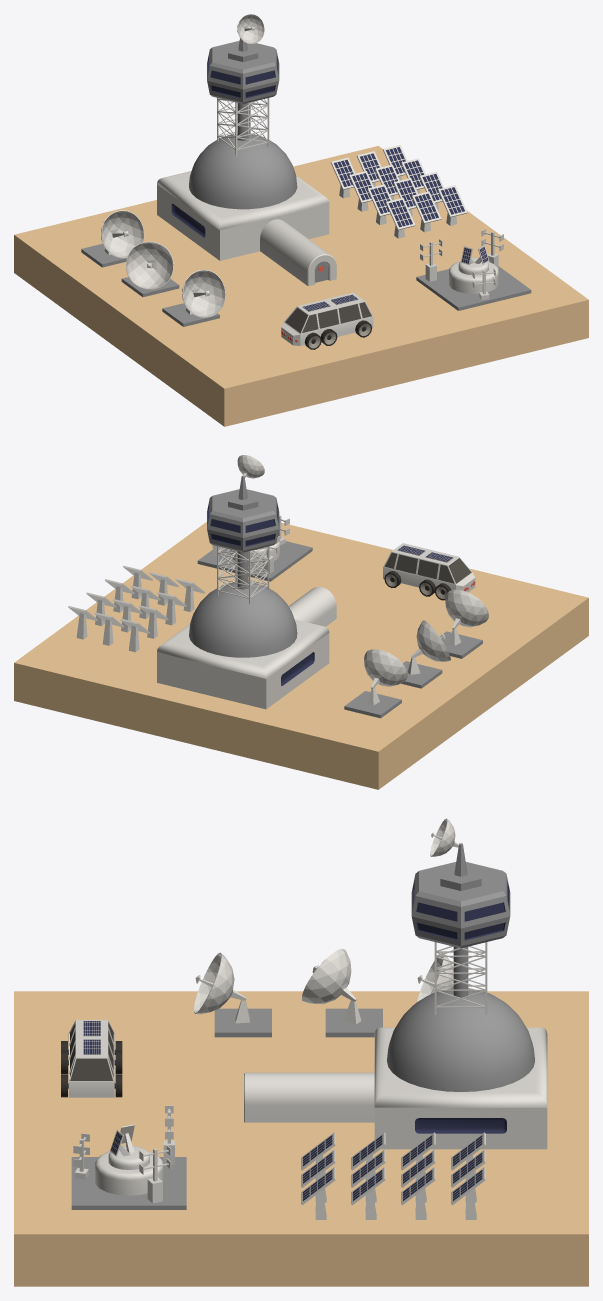
File: 00 Space_9.FBX
The picture shows the model from 3 angles, top to bottom: view 1: azimuth 30°, elevation 25°; view 2: azimuth 150°, elevation 25°; view 3: azimuth 270°, elevation 25°; orthographic projection. The views are drawn at different scales.
Visible parts, largest first — view 1: Box001, Cylinder036, Cylinder004, Box042, GeoSphere003, GeoSphere004, GeoSphere002, Box044, Box043, Box028, Box053, Box047 (+1 smaller); view 2: Box001, Cylinder036, Box042, GeoSphere002, Cylinder004, GeoSphere004, GeoSphere003; view 3: Box001, Cylinder036, Cylinder004, Box042, GeoSphere003, GeoSphere004, GeoSphere002, Box028, Box045, Box048, Box051.
Part boxes in pixels (x1,y1,x2,y2): Box001: (14,146,588,426); Cylinder036: (157,14,336,285); Cylinder004: (416,228,531,310); Box042: (281,292,373,349); GeoSphere003: (121,241,179,297); GeoSphere004: (162,269,225,326); GeoSphere002: (81,210,144,267); Box044: (385,198,415,238); Box043: (411,191,441,232); Box028: (438,185,467,225); Box053: (330,157,355,198); Box047: (367,184,391,224); Box001: (14,522,588,789); Cylinder036: (157,455,336,709); Box042: (383,543,475,600); GeoSphere002: (344,649,407,718); Cylinder004: (197,515,312,581); GeoSphere004: (439,589,488,658); GeoSphere003: (401,620,450,688); Box001: (14,991,588,1286); Cylinder036: (244,818,547,1149); Cylinder004: (71,1105,186,1209); Box042: (61,1020,122,1097); GeoSphere003: (302,948,382,1037); GeoSphere004: (194,952,271,1037); GeoSphere002: (417,952,453,1001); Box028: (301,1167,335,1219); Box045: (351,1167,385,1219); Box048: (401,1167,435,1219); Box051: (451,1167,485,1219).
Size of the model in its own units: 10000 by 6604 by 10000.
